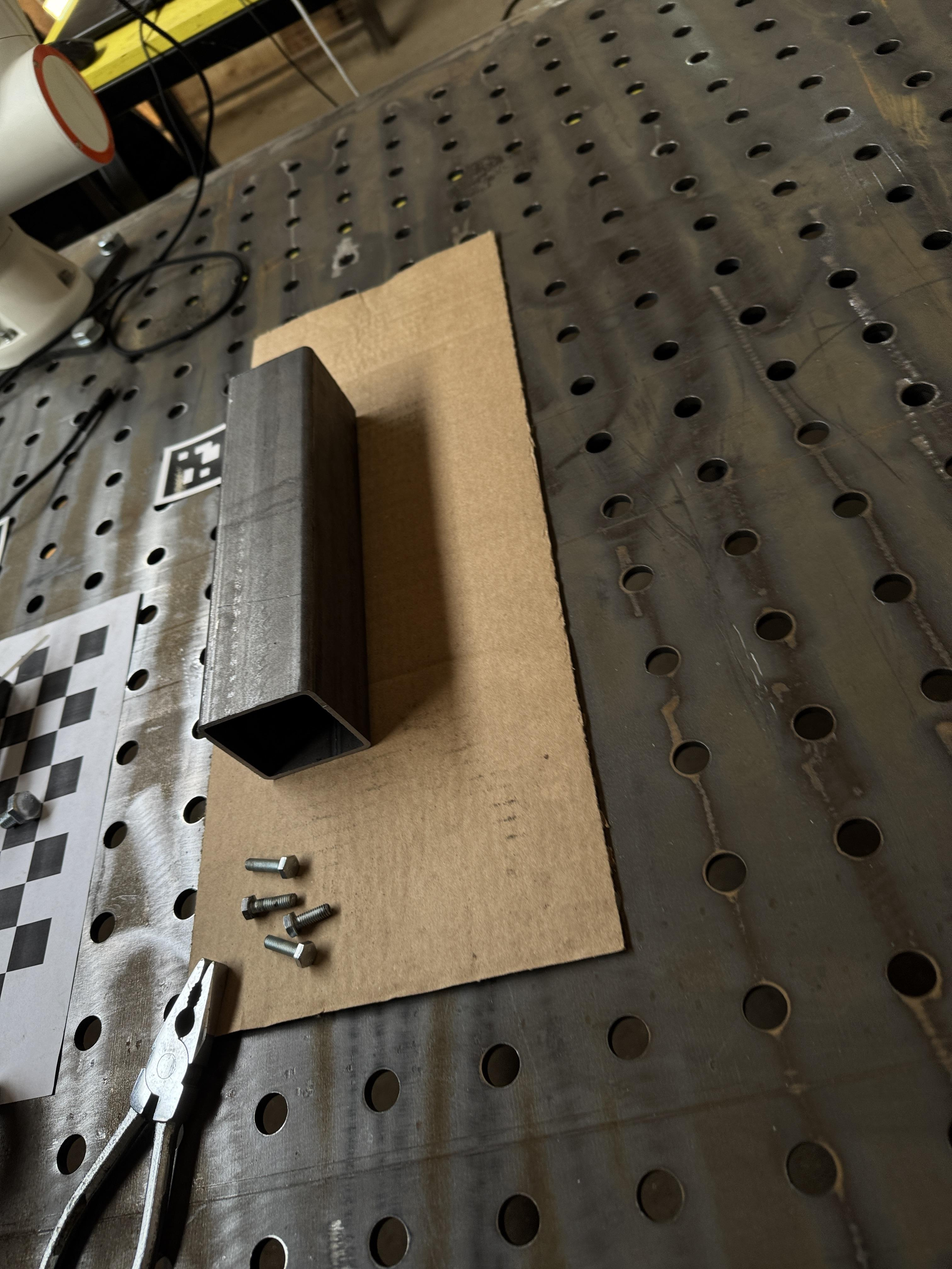detail: (198, 347, 371, 780)
